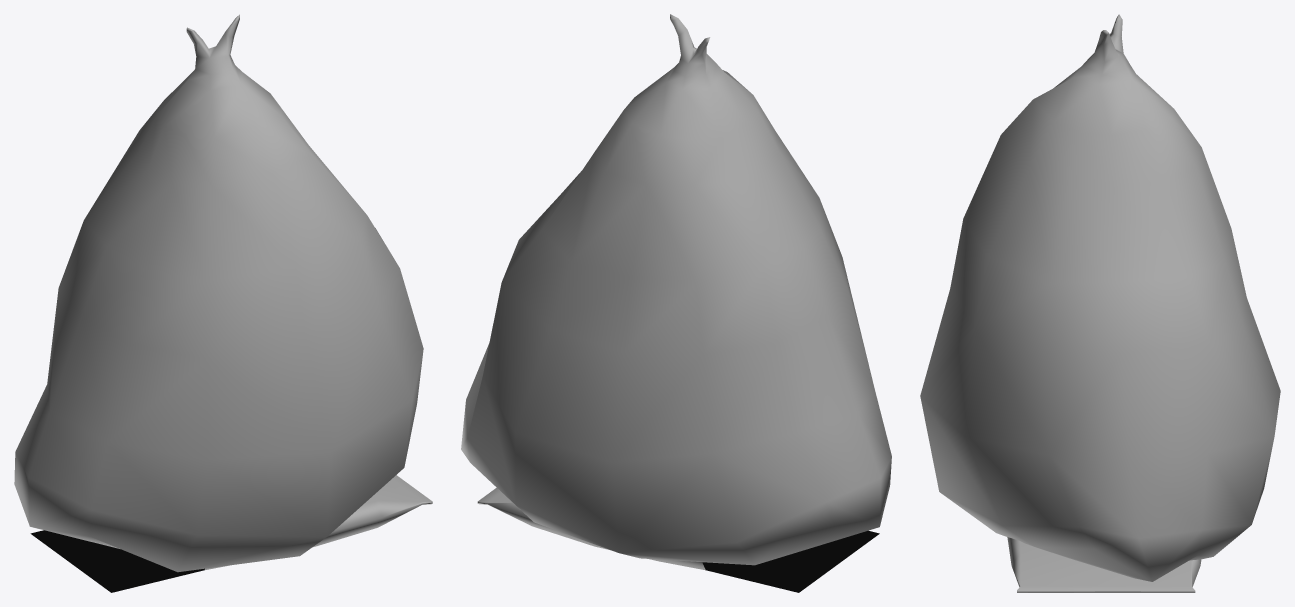
File: FBX_Trash.fbx
3 views of the same model, side by side, from view 1: azimuth 30°, elevation 25°; view 2: azimuth 150°, elevation 25°; view 3: azimuth 270°, elevation 25° (orthographic).
Visible parts, largest first — view 1: MESH_Trash_low, MESH_Chips; view 2: MESH_Trash_low, MESH_Chips; view 3: MESH_Trash_low, MESH_Chips.
Boxes of the visible parts, x1,y1,x2,y2 form: MESH_Trash_low: (14,14,423,572); MESH_Chips: (30,475,432,592); MESH_Trash_low: (461,14,891,565); MESH_Chips: (477,487,879,592); MESH_Trash_low: (920,14,1280,581); MESH_Chips: (1007,537,1201,592).
Size of the model in its own units: 74.69 by 91.69 by 58.75.
